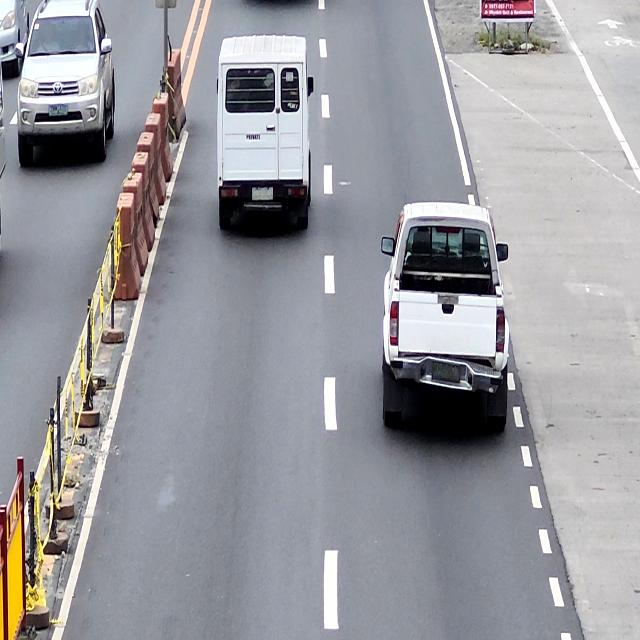Car: (380, 202, 511, 432), (216, 37, 314, 229)
License-Plate: (432, 363, 462, 384), (250, 188, 276, 202)
